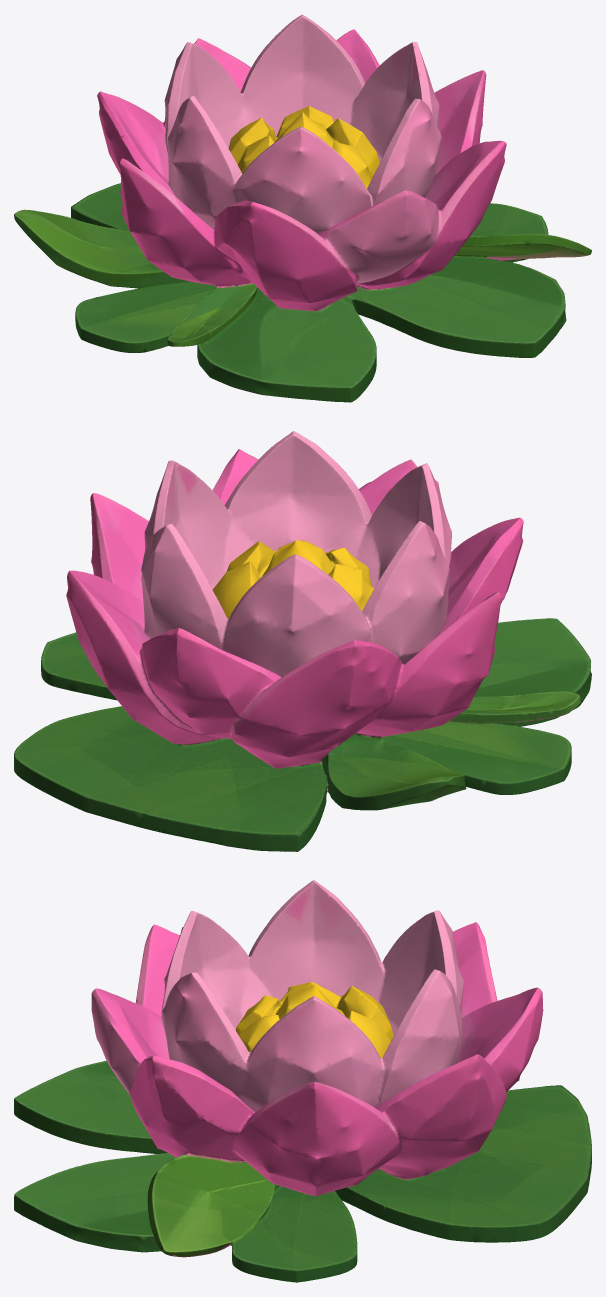
Rendered from meshy-froggy-low-poly-lotus.glb.
3 renders of one model, top to bottom at view 1: azimuth 30°, elevation 25°; view 2: azimuth 150°, elevation 25°; view 3: azimuth 270°, elevation 25°, orthographic. The views are drawn at different scales.
Bounding box in the file's own units: 1.88 × 0.8185 × 1.9.
1 material, 1 textured.
